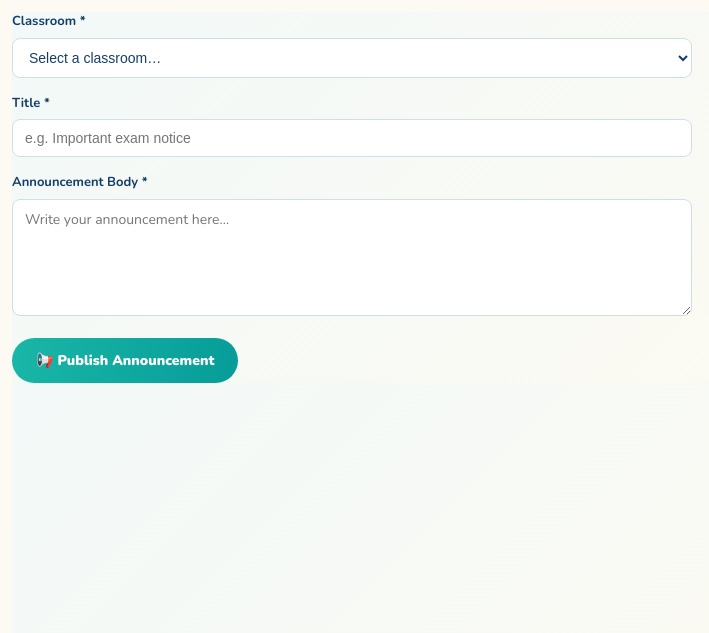
Test: shows error when classroom is not selected
// Fill title and body but no classroom
In the field labelled "Title *": (352, 138) [12, 119, 692, 157], type "Some Title"
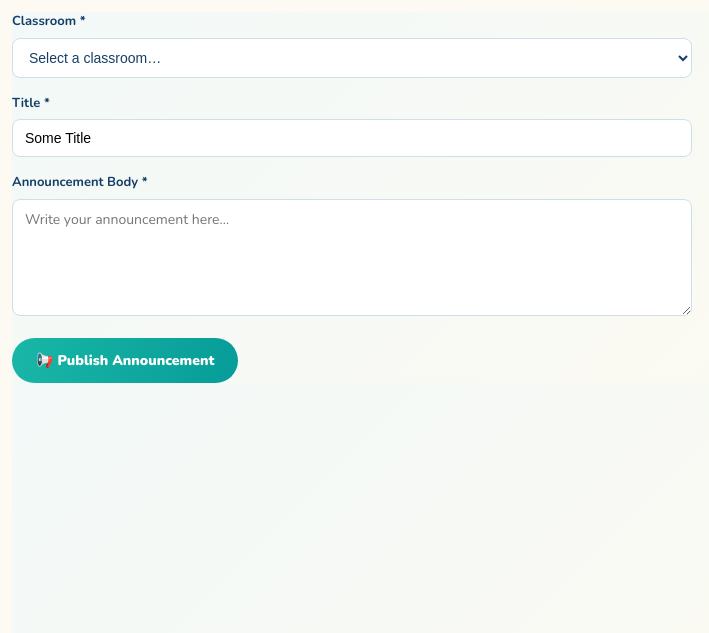
Click the button "📢 Publish Announcement": (125, 360) [12, 338, 238, 382]
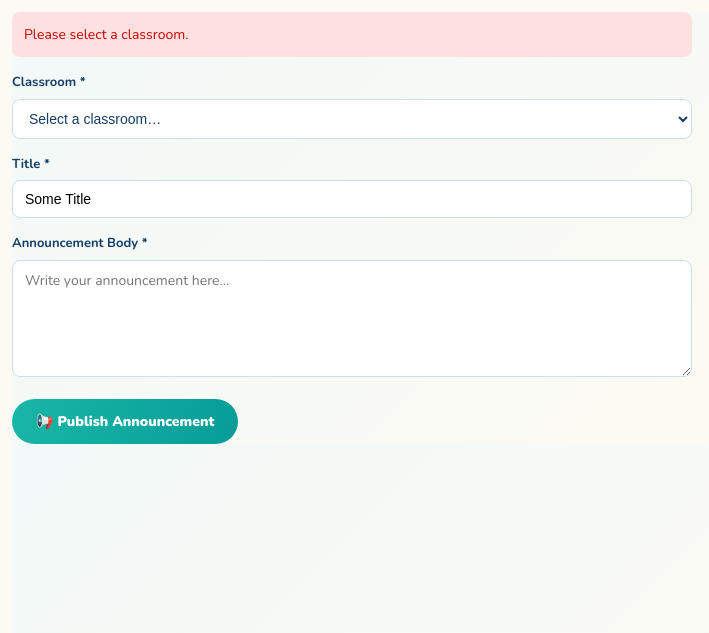
expect the message "Please select a classroom." is shown: met, box [12, 12, 692, 57]
